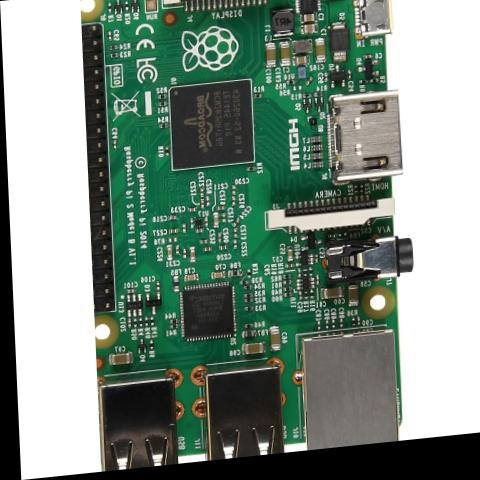Raspberry-Pi-2-Model-B: (80, 0, 417, 473)
